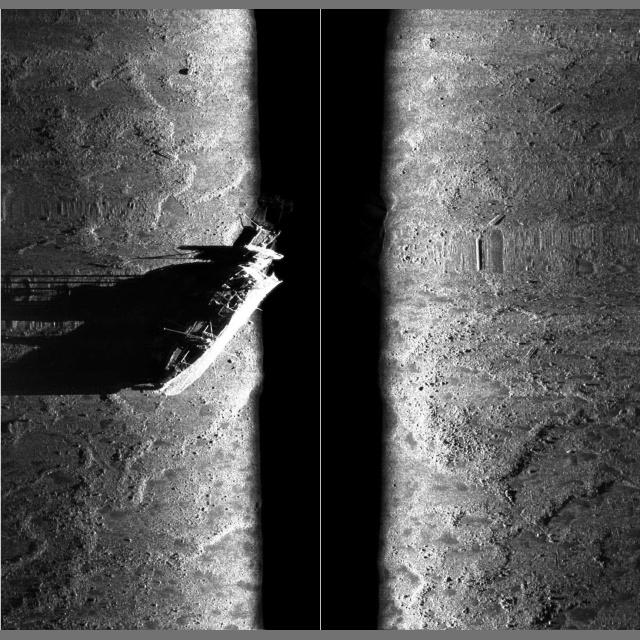Shipwreck: (133, 149, 537, 397)
